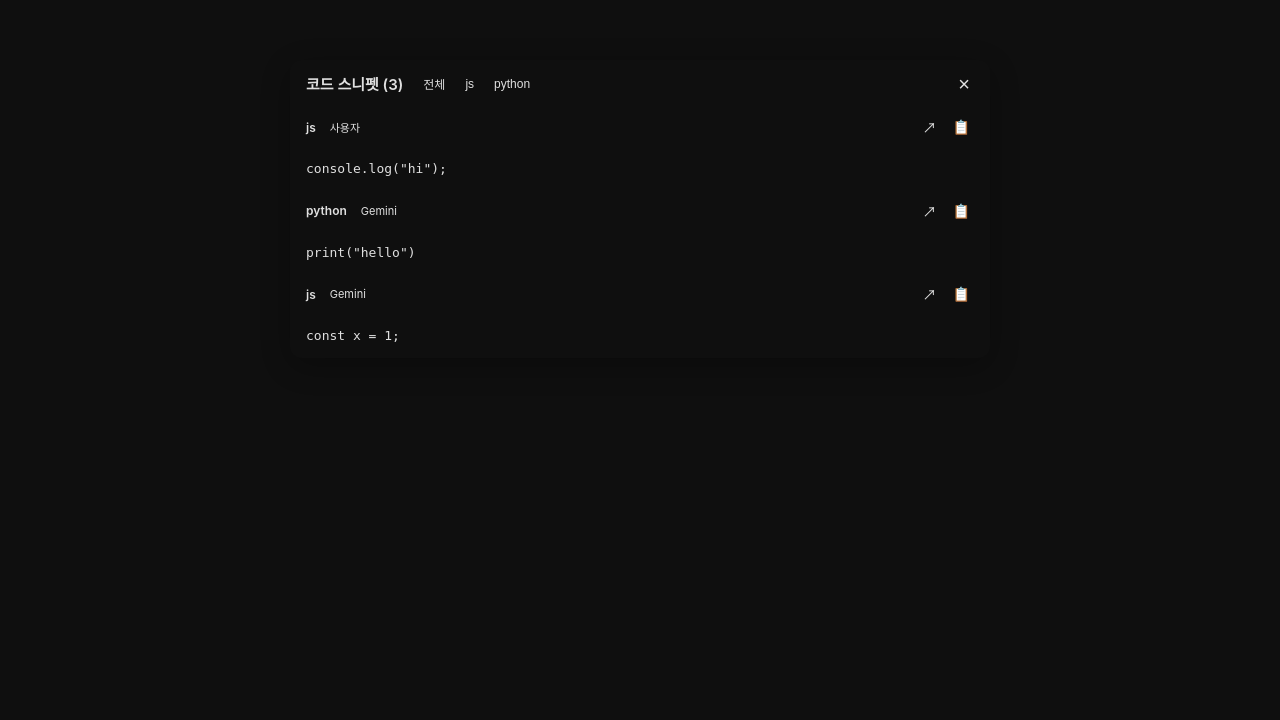
Test: CodeSnippets › filters by language when clicking filter button
The width and height of the screenshot is (1280, 720).
What coordinates should you click on to do the following:
click the button with aria-label "python 필터"
I would click on:
 (512, 84)
Its box is [486,72,538,95].
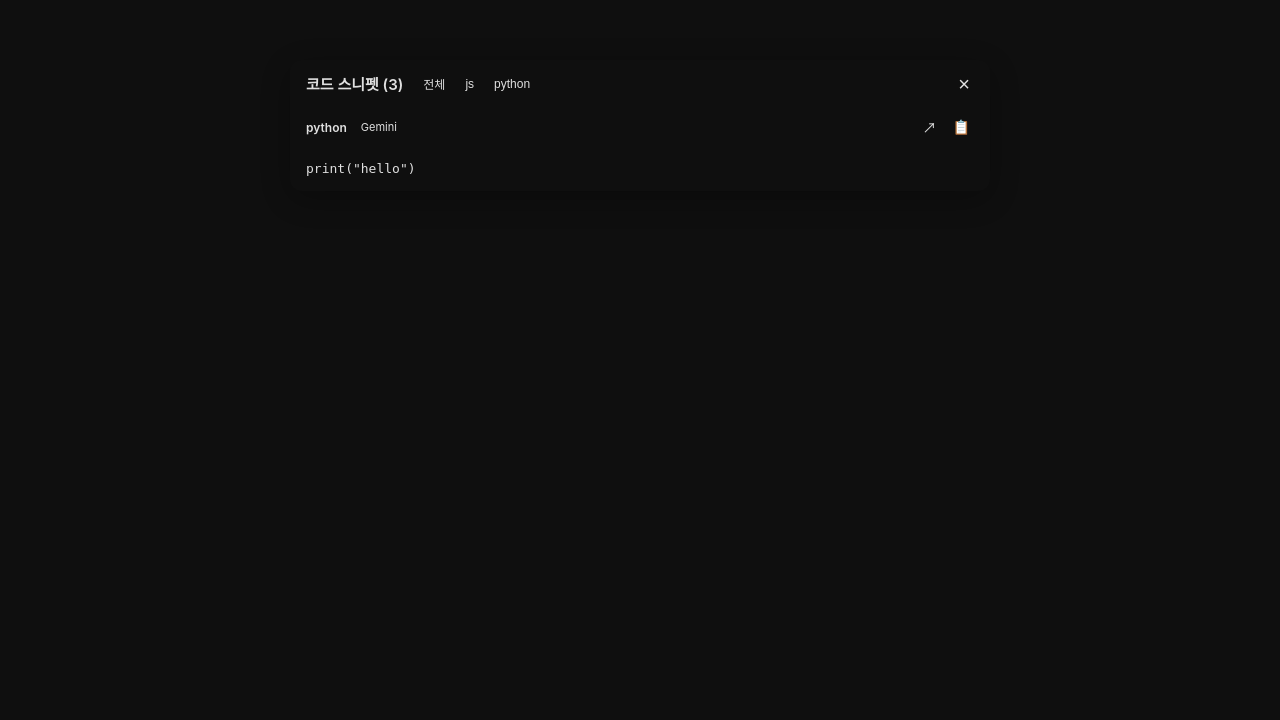
Expected: the number of elements with class "code-snippet-item" is 1, [290,107,990,191]
